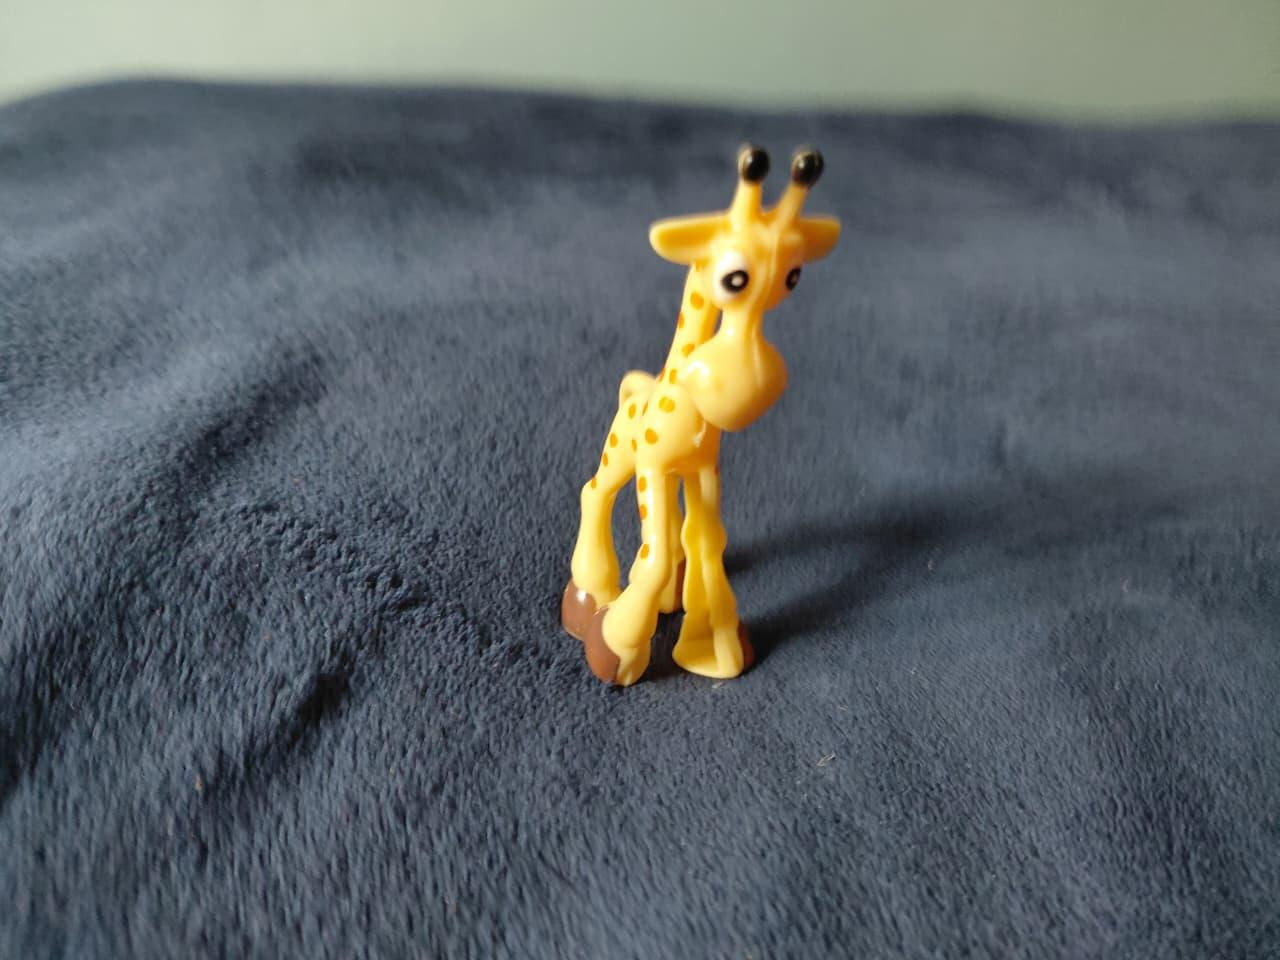giraffe: (552, 132, 845, 697)
